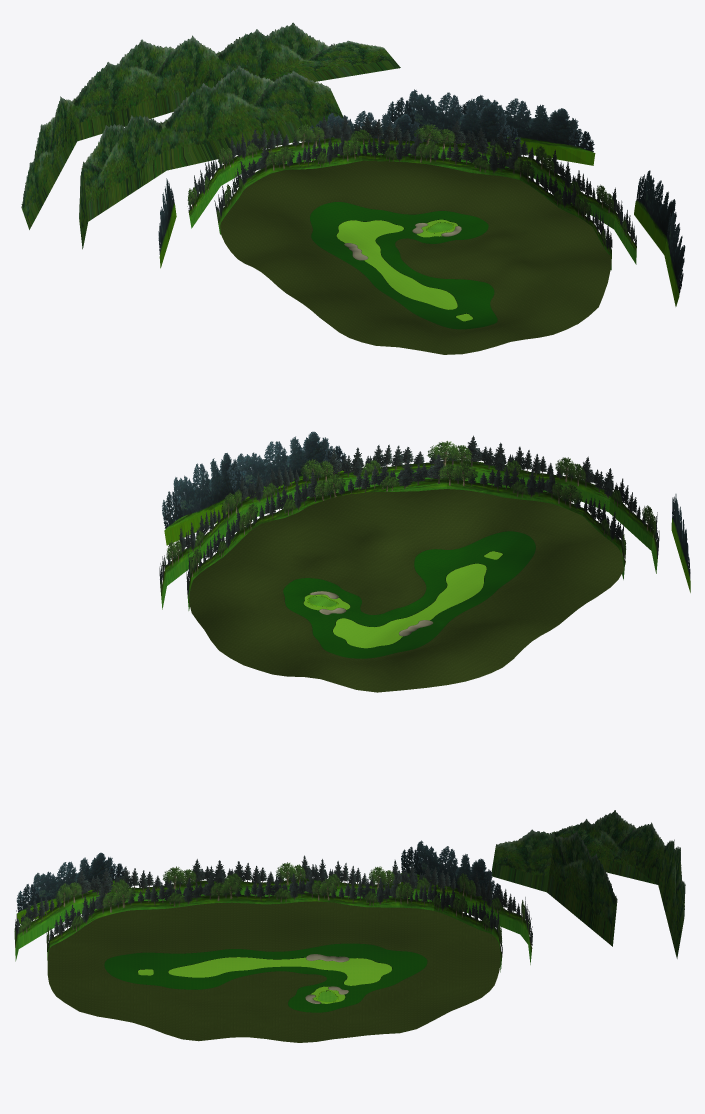
Rendered from glf_course_fc12__glf_course_fc12.glb.
The picture shows the model from 3 angles, top to bottom: view 1: azimuth 30°, elevation 25°; view 2: azimuth 150°, elevation 25°; view 3: azimuth 270°, elevation 25°; orthographic projection. The views are drawn at different scales.
Parts seen in each view (by area): view 1: polygon33, polygon23, polygon19, polygon20, polygon34, polygon30; view 2: polygon33, polygon19, polygon34, polygon20, polygon30; view 3: polygon33, polygon19, polygon23, polygon34, polygon20, polygon30.
Boxes of the visible parts, x1,y1,x2,y2 form: polygon33: (220,160,611,354); polygon23: (21,22,400,249); polygon19: (187,115,636,270); polygon20: (158,89,685,306); polygon34: (310,202,497,329); polygon30: (336,219,472,321); polygon33: (189,489,625,692); polygon19: (159,435,659,610); polygon34: (283,531,535,658); polygon20: (162,431,690,592); polygon30: (303,551,502,648); polygon33: (47,901,500,1042); polygon19: (14,855,532,972); polygon23: (491,810,685,958); polygon34: (104,943,427,1012); polygon20: (16,840,503,923); polygon30: (138,957,391,1003).
Size of the model in its own units: 7049 by 1422 by 8070.
14 materials, 13 textured.
